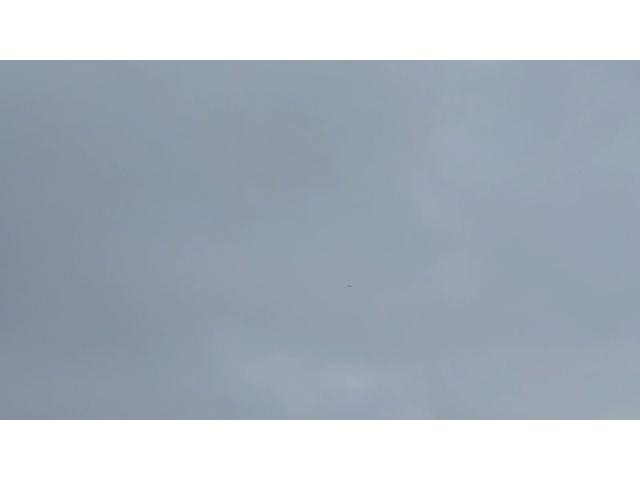Anti-Drone: (346, 284, 352, 290)
